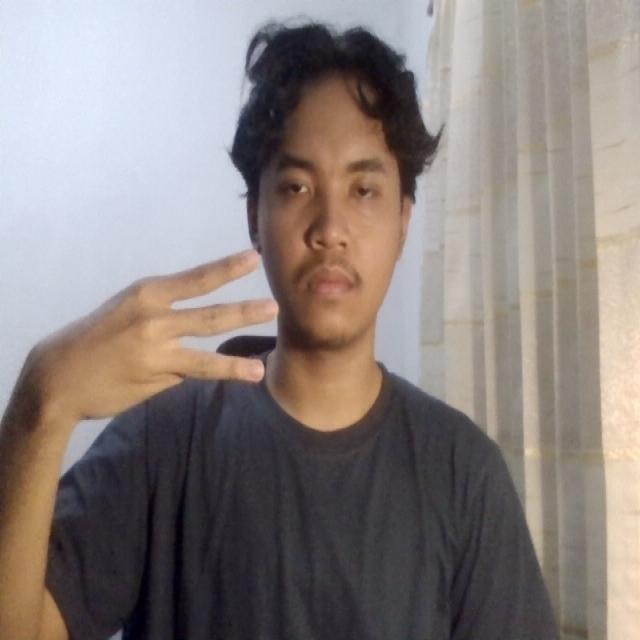E: (32, 237, 291, 432)
